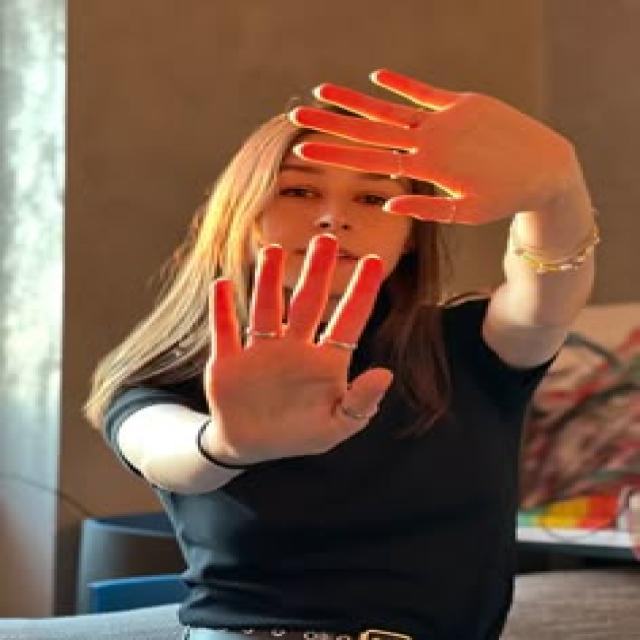7_mano_rostro: (251, 124, 388, 408)
